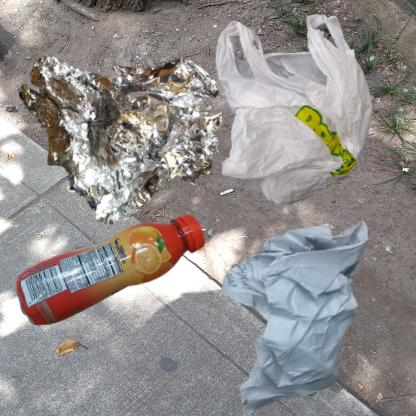aluminio: (10, 10, 259, 251)
bolsa: (213, 10, 379, 213)
botella: (10, 213, 219, 332)
papel: (213, 213, 390, 416)
